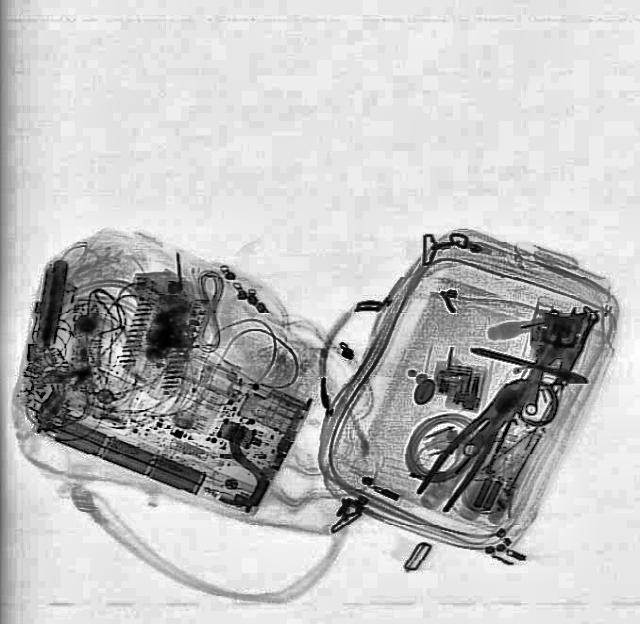Pliers: (409, 364, 543, 516)
